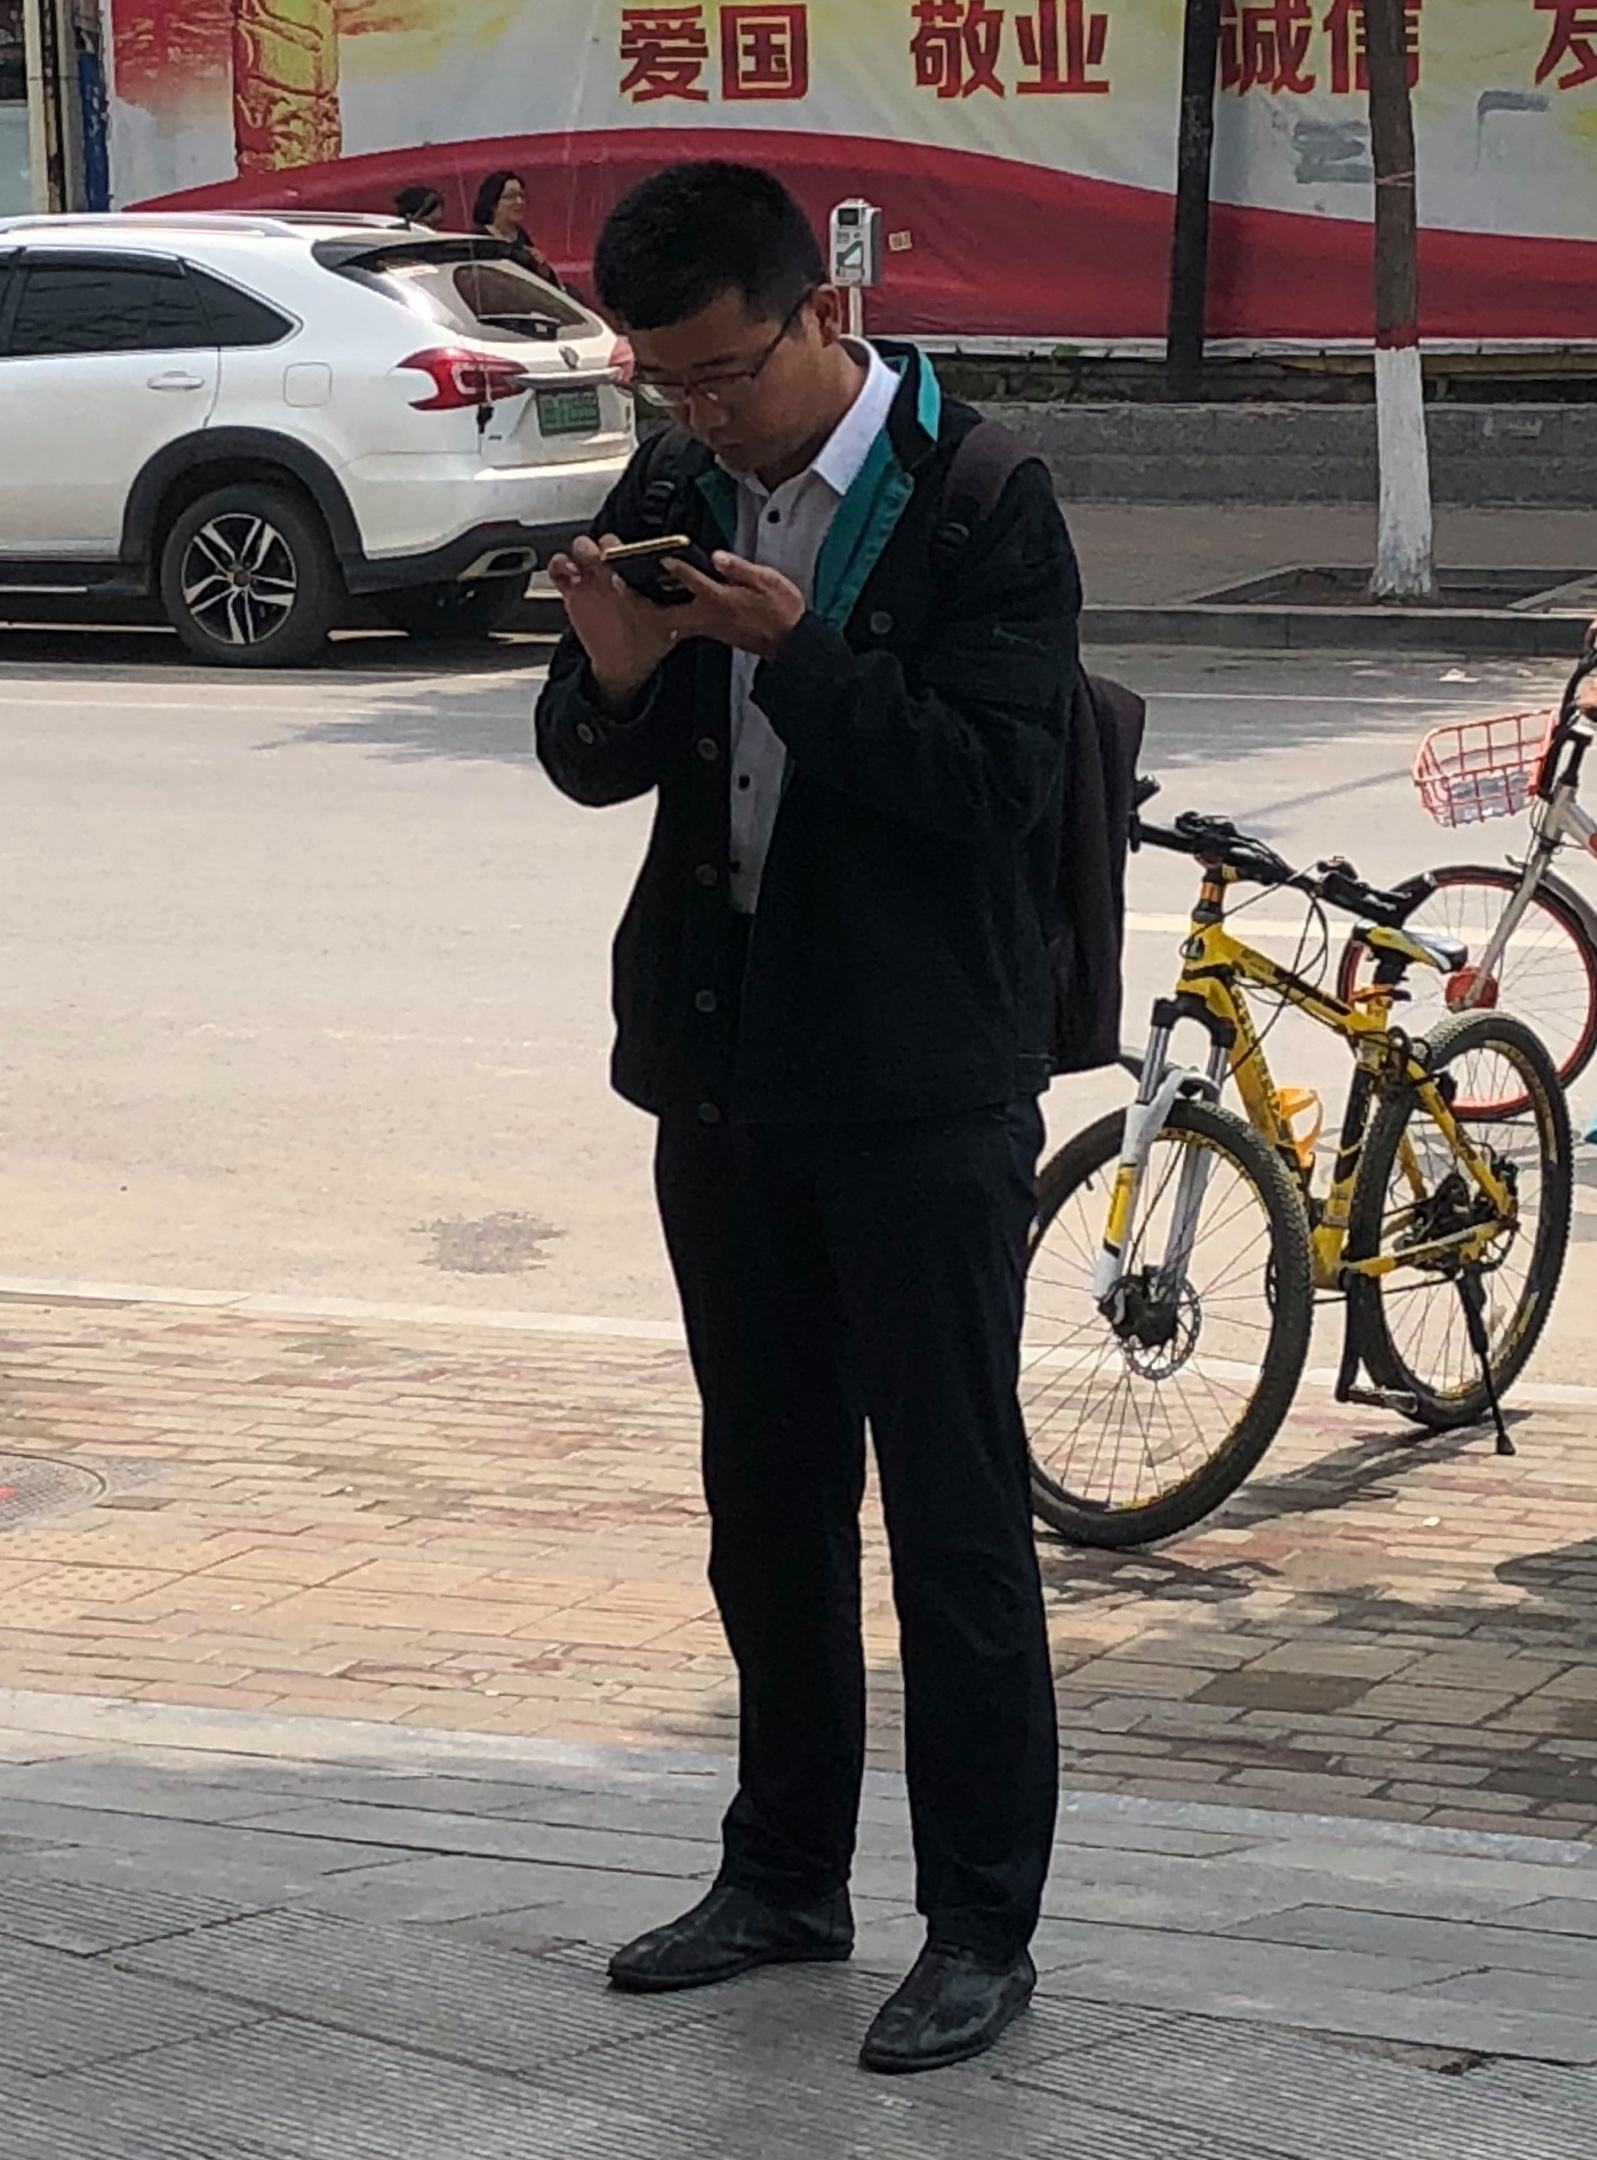reading: (540, 515, 809, 671)
